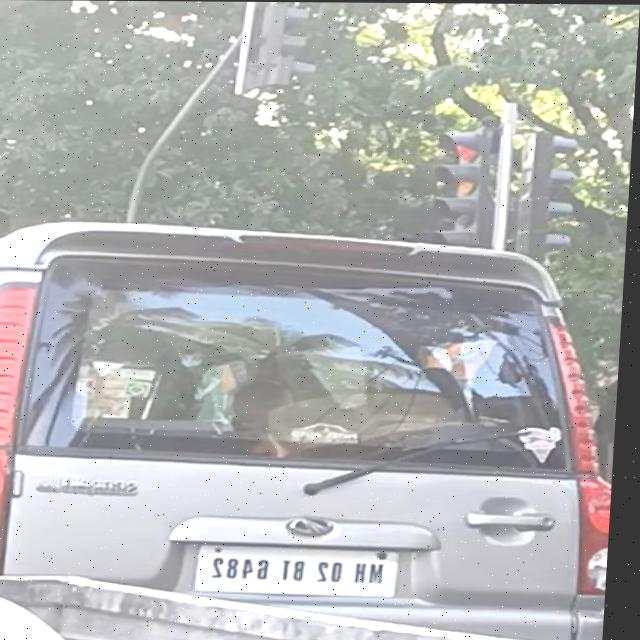plate: (200, 547, 408, 599)
